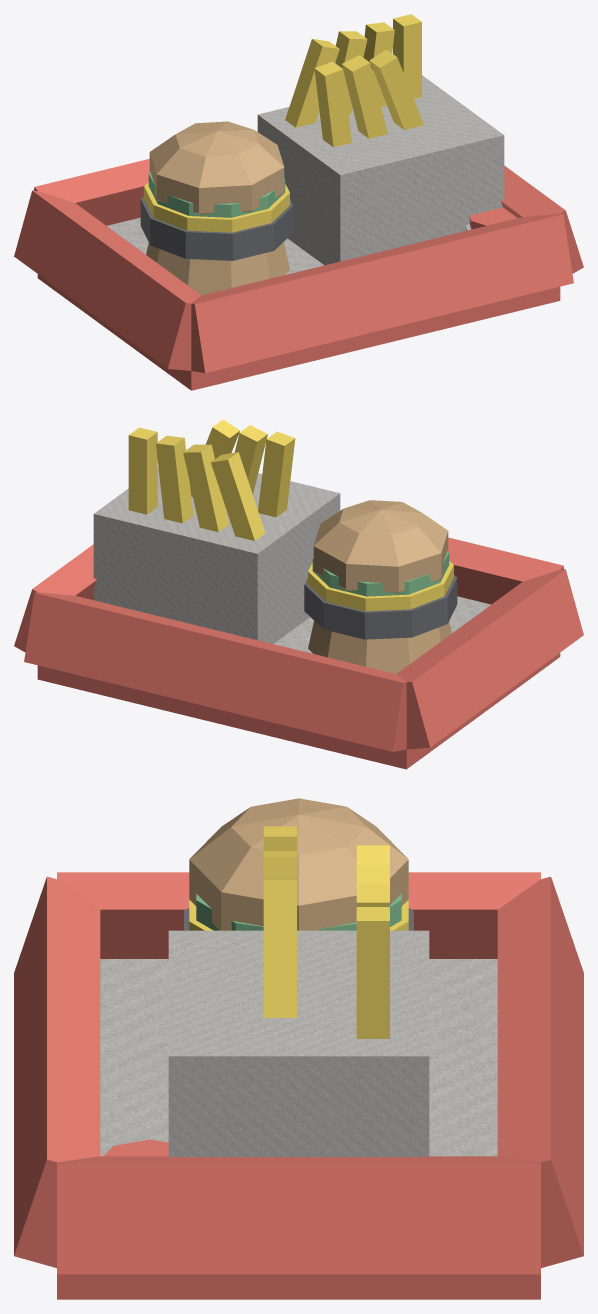
The model's file is street-food-market-and-food-trucks-food-tray-burger-an-66573dc6.glb.
3 renders of one model, top to bottom at view 1: azimuth 30°, elevation 25°; view 2: azimuth 150°, elevation 25°; view 3: azimuth 270°, elevation 25°, orthographic. The views are drawn at different scales.
Parts seen in each view (by area): view 1: food-tray-burger-and-chips-scarlet, food-tray-burger-and-chips-concrete, food-tray-burger-and-chips-canary, food-tray-burger-and-chips-timber, food-tray-burger-and-chips-charcoal, food-tray-burger-and-chips-leaf; view 2: food-tray-burger-and-chips-scarlet, food-tray-burger-and-chips-concrete, food-tray-burger-and-chips-canary, food-tray-burger-and-chips-timber, food-tray-burger-and-chips-charcoal, food-tray-burger-and-chips-leaf; view 3: food-tray-burger-and-chips-scarlet, food-tray-burger-and-chips-concrete, food-tray-burger-and-chips-timber, food-tray-burger-and-chips-canary, food-tray-burger-and-chips-leaf.
Part boxes in pixels (x1,y1,x2,y2): food-tray-burger-and-chips-scarlet: [14, 159, 583, 390]; food-tray-burger-and-chips-concrete: [107, 75, 504, 274]; food-tray-burger-and-chips-canary: [144, 14, 423, 232]; food-tray-burger-and-chips-timber: [146, 121, 289, 295]; food-tray-burger-and-chips-charcoal: [140, 196, 293, 260]; food-tray-burger-and-chips-leaf: [148, 172, 285, 217]; food-tray-burger-and-chips-scarlet: [14, 537, 583, 769]; food-tray-burger-and-chips-concrete: [93, 467, 490, 653]; food-tray-burger-and-chips-canary: [128, 419, 453, 611]; food-tray-burger-and-chips-timber: [308, 500, 451, 673]; food-tray-burger-and-chips-charcoal: [304, 575, 457, 639]; food-tray-burger-and-chips-leaf: [312, 551, 449, 596]; food-tray-burger-and-chips-scarlet: [14, 872, 583, 1299]; food-tray-burger-and-chips-concrete: [100, 930, 497, 1156]; food-tray-burger-and-chips-timber: [189, 798, 408, 930]; food-tray-burger-and-chips-canary: [189, 826, 408, 1038]; food-tray-burger-and-chips-leaf: [196, 894, 401, 930].
Bounding box in the file's own units: 0.4064 × 0.2057 × 0.3064.
Materials: 6 (1 with a texture image).
